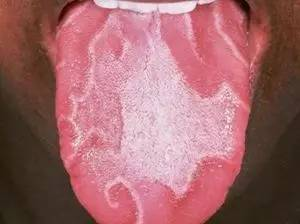baitaishe: (55, 2, 250, 224)
botaishe: (158, 11, 248, 99), (65, 17, 122, 154), (94, 174, 244, 224)
hongshe: (55, 2, 250, 224)
